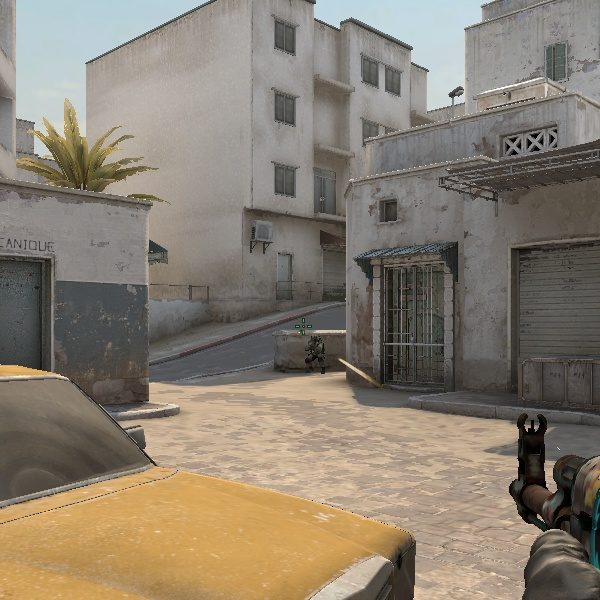ct_head: (309, 332, 322, 345)
t_body: (301, 330, 329, 368)
